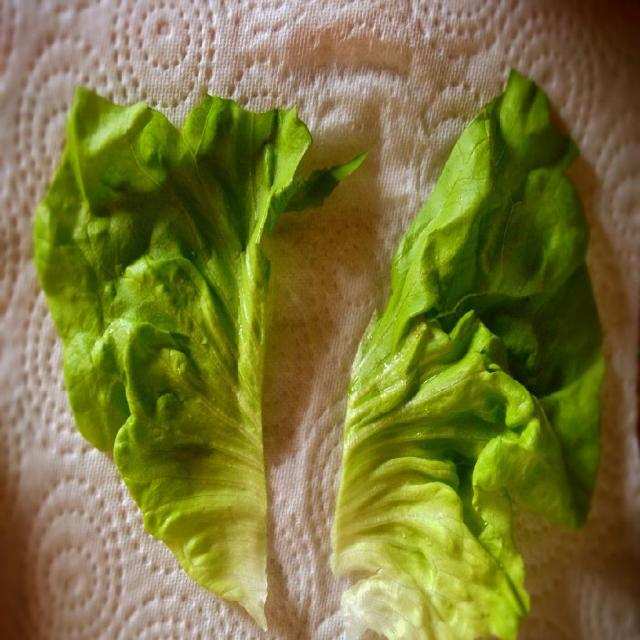-Kitchen waste - vegetable roots and leaves-: (328, 67, 605, 640), (38, 84, 310, 634)
